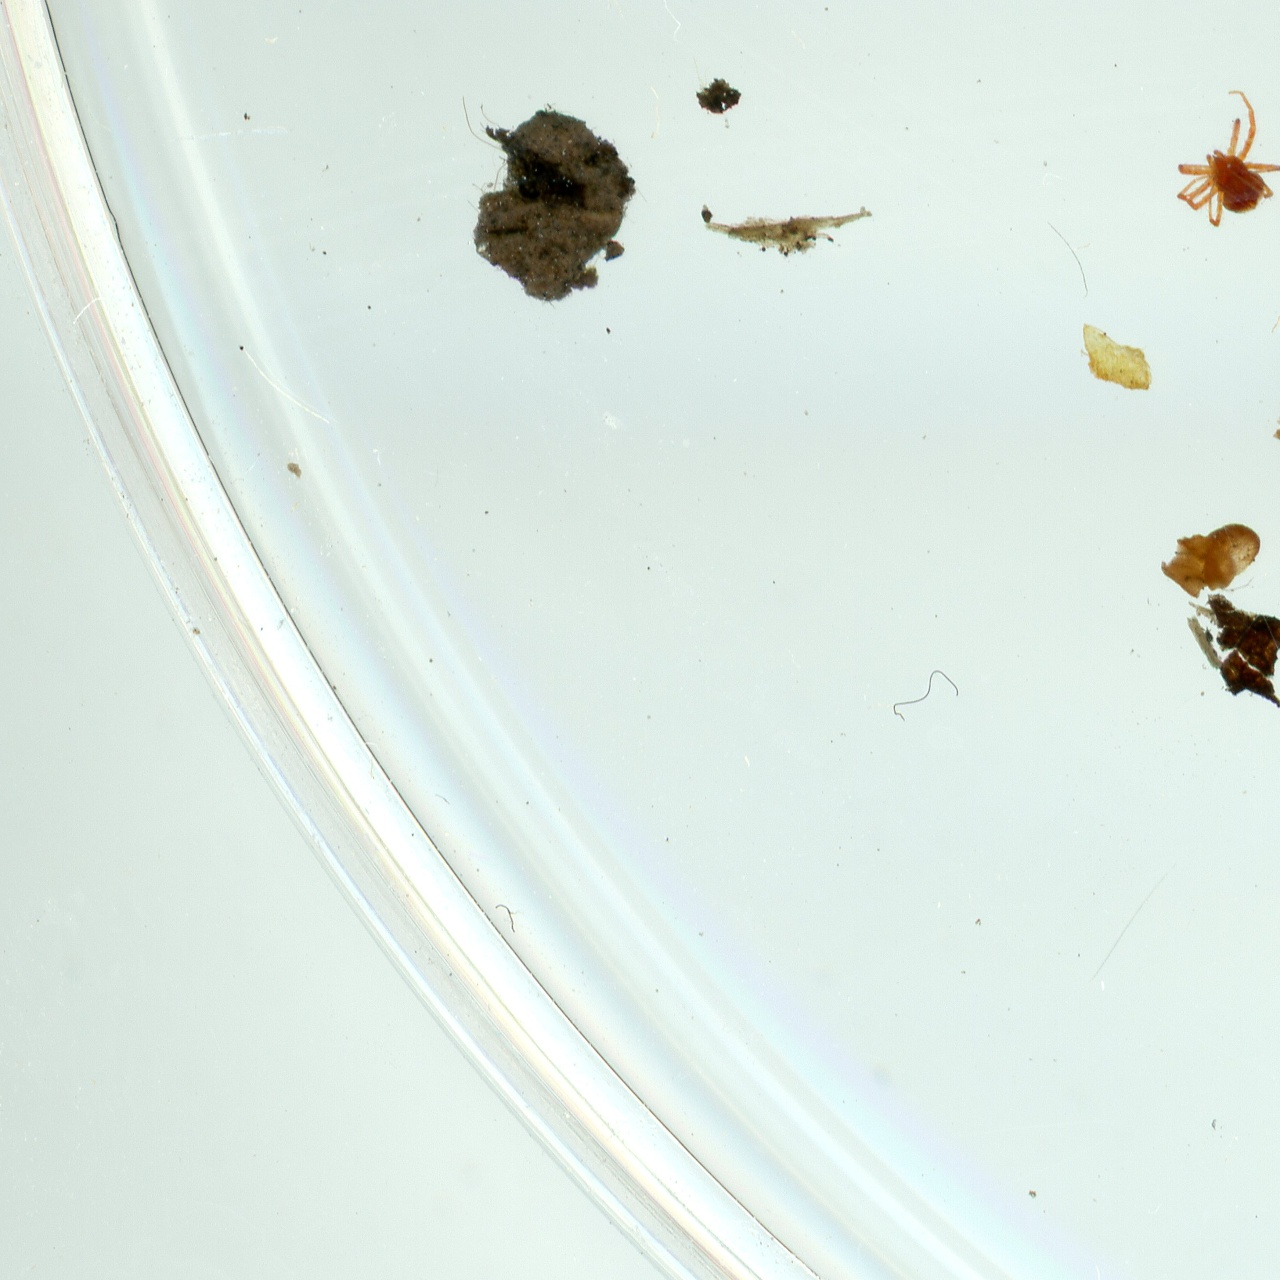arthropod: (1138, 76, 1280, 247)
